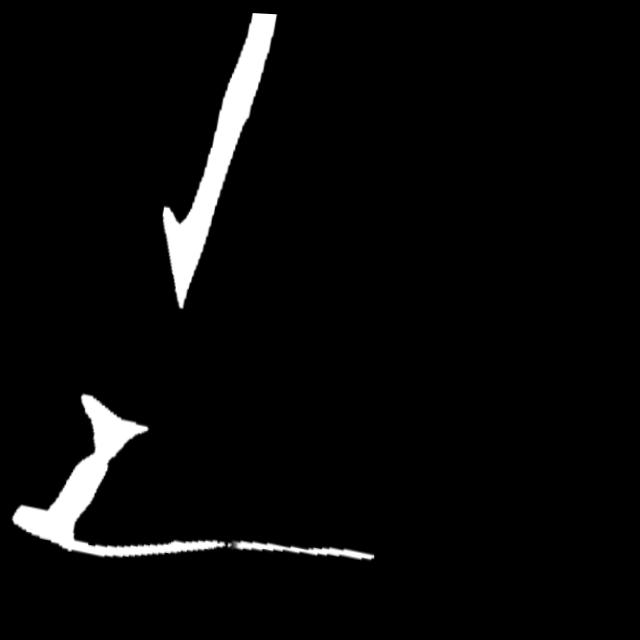inf: (218, 528, 244, 556)
